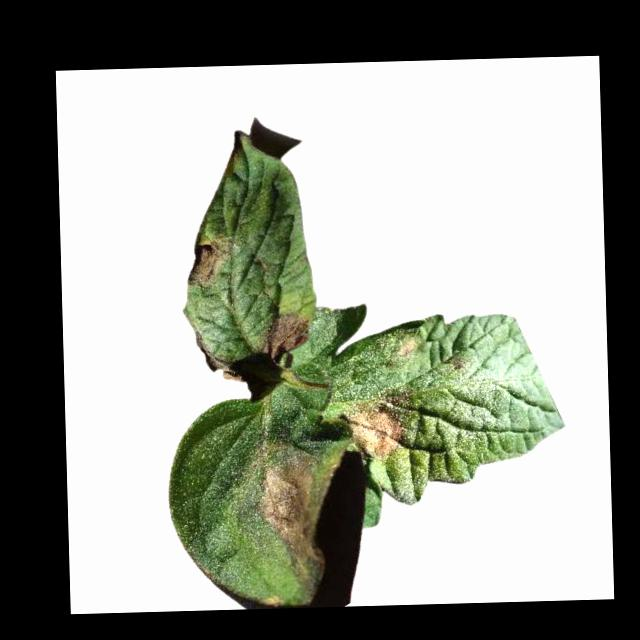Late_blight: (254, 451, 318, 563), (343, 395, 405, 461), (186, 234, 233, 288), (194, 330, 238, 383), (261, 313, 308, 362), (396, 337, 420, 360)
